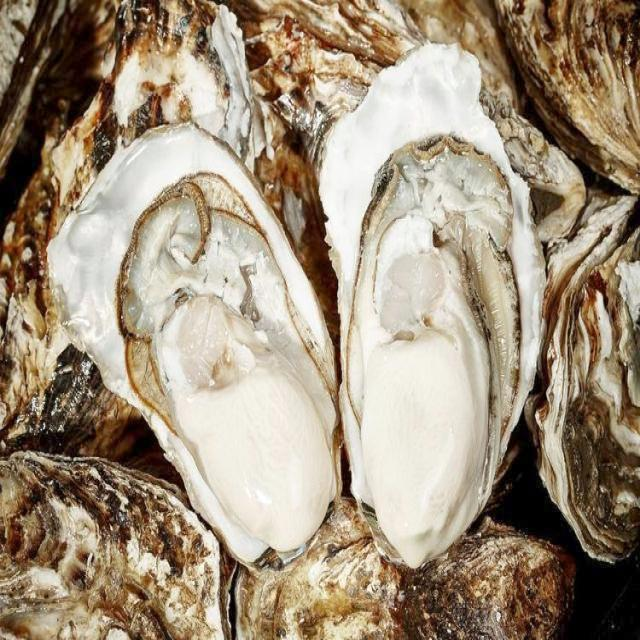Oyster-Closed: (0, 1, 264, 456), (240, 1, 584, 228), (228, 511, 575, 640), (0, 447, 228, 640), (524, 197, 640, 556), (500, 0, 640, 192)
Oyster-Open: (45, 118, 345, 562), (315, 43, 545, 573)
